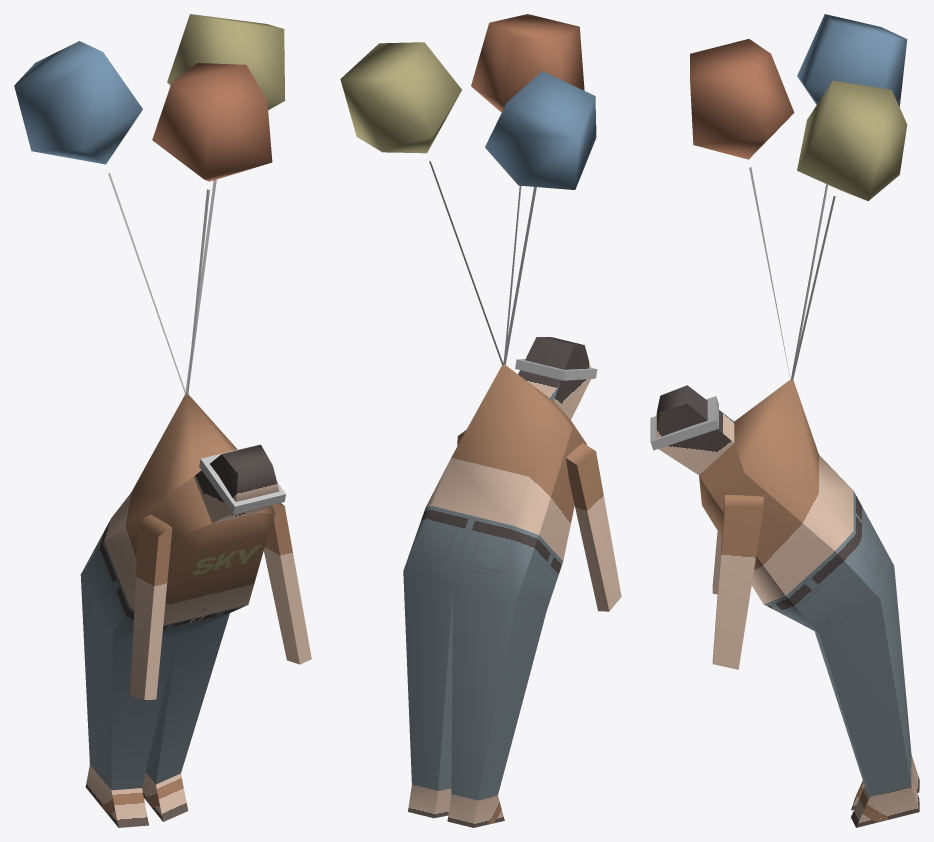
File: 0254_Balloon_Man.glb
3 renders of one model, left to right at view 1: azimuth 30°, elevation 25°; view 2: azimuth 150°, elevation 25°; view 3: azimuth 270°, elevation 25°, orthographic. The views are drawn at different scales.
Visible parts, largest first — view 1: part_0; view 2: part_0; view 3: part_0.
Boxes of the visible parts, box(x1,y1,x2,y2) form: part_0: box(14, 14, 311, 827); part_0: box(340, 14, 621, 827); part_0: box(650, 14, 919, 827).
Bounding box in the file's own units: 0.9533 × 2.86 × 0.9153.
1 material, 1 textured.
